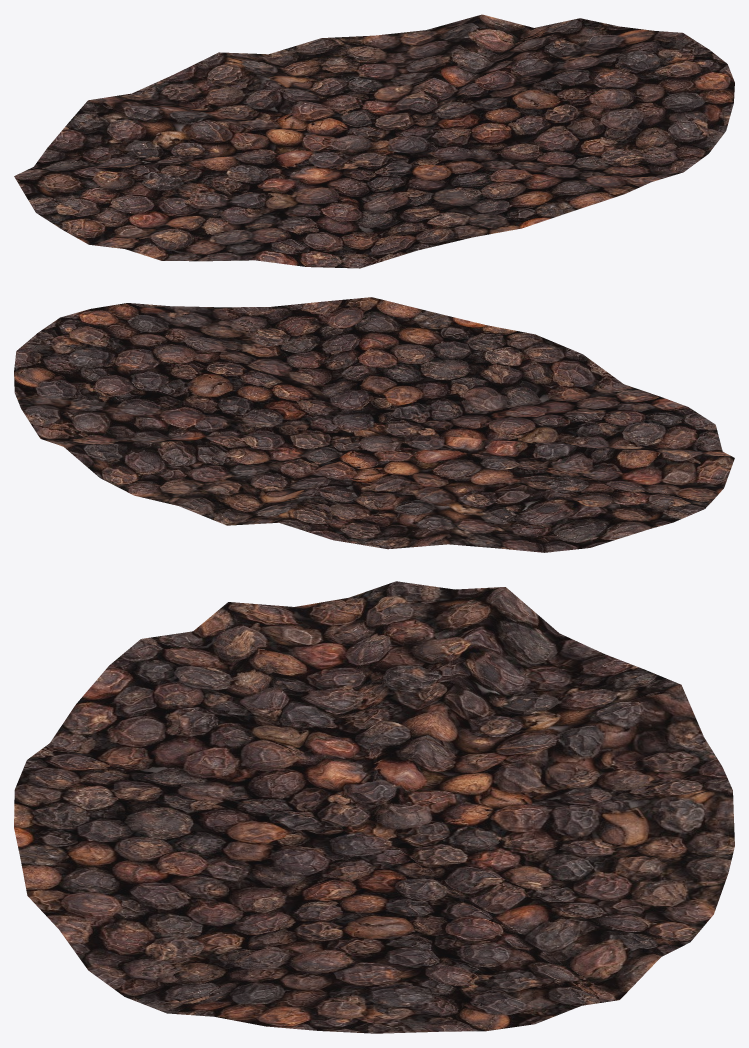
Rendered from blackPepperMaterial.fbx.
3 renders of one model, top to bottom at view 1: azimuth 30°, elevation 25°; view 2: azimuth 150°, elevation 25°; view 3: azimuth 270°, elevation 25°, orthographic. The views are drawn at different scales.
Parts seen in each view (by area): view 1: Oregano_Spoon.001; view 2: Oregano_Spoon.001; view 3: Oregano_Spoon.001.
Boxes of the visible parts, box(x1,y1,x2,y2) form: Oregano_Spoon.001: box(14, 14, 734, 268); Oregano_Spoon.001: box(14, 297, 734, 552); Oregano_Spoon.001: box(14, 581, 734, 1033).
Size of the model in its own units: 40.52 by 1.3 by 26.79.
Materials: 1 (1 with a texture image).
